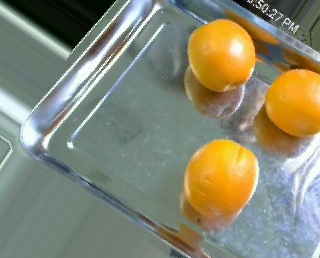Orange: (183, 137, 261, 219), (186, 18, 257, 92), (264, 68, 320, 136)
